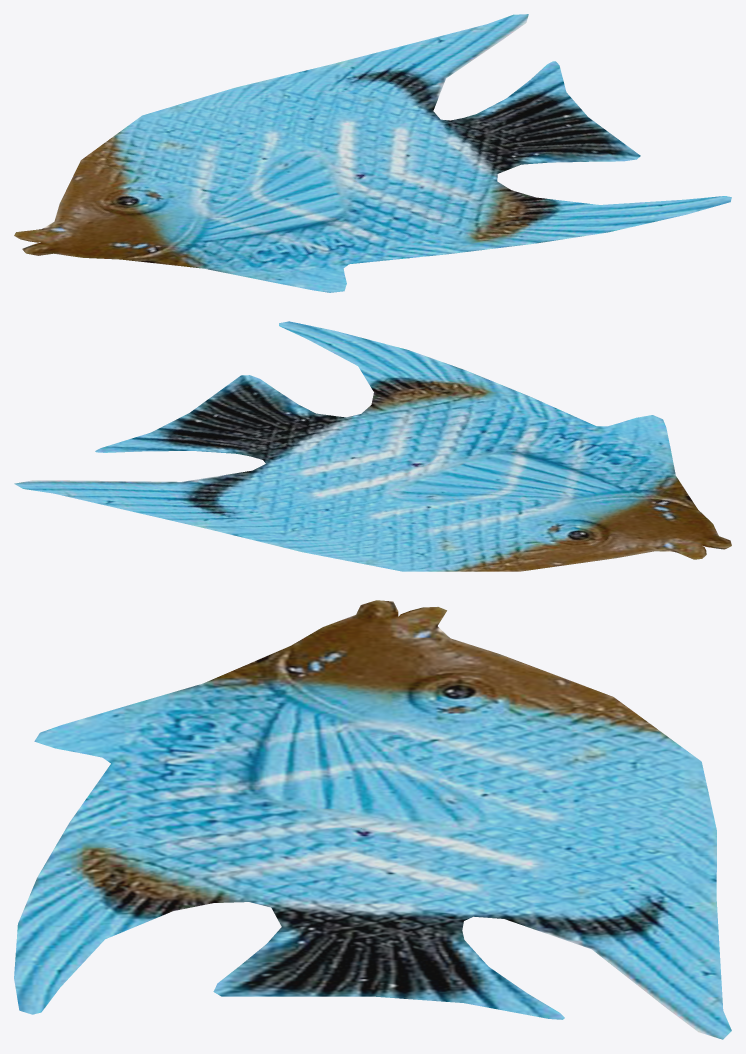
The model's file is fish2.FBX.
3 renders of one model, top to bottom at view 1: azimuth 30°, elevation 25°; view 2: azimuth 150°, elevation 25°; view 3: azimuth 270°, elevation 25°, orthographic. The views are drawn at different scales.
Parts seen in each view (by area): view 1: Shape02; view 2: Shape02; view 3: Shape02.
Boxes of the visible parts, <box> form: Shape02: <box>14,14,731,292</box>; Shape02: <box>14,321,731,571</box>; Shape02: <box>14,600,731,1039</box>.
Size of the model in its own units: 205 by 4.26e-14 by 142.
